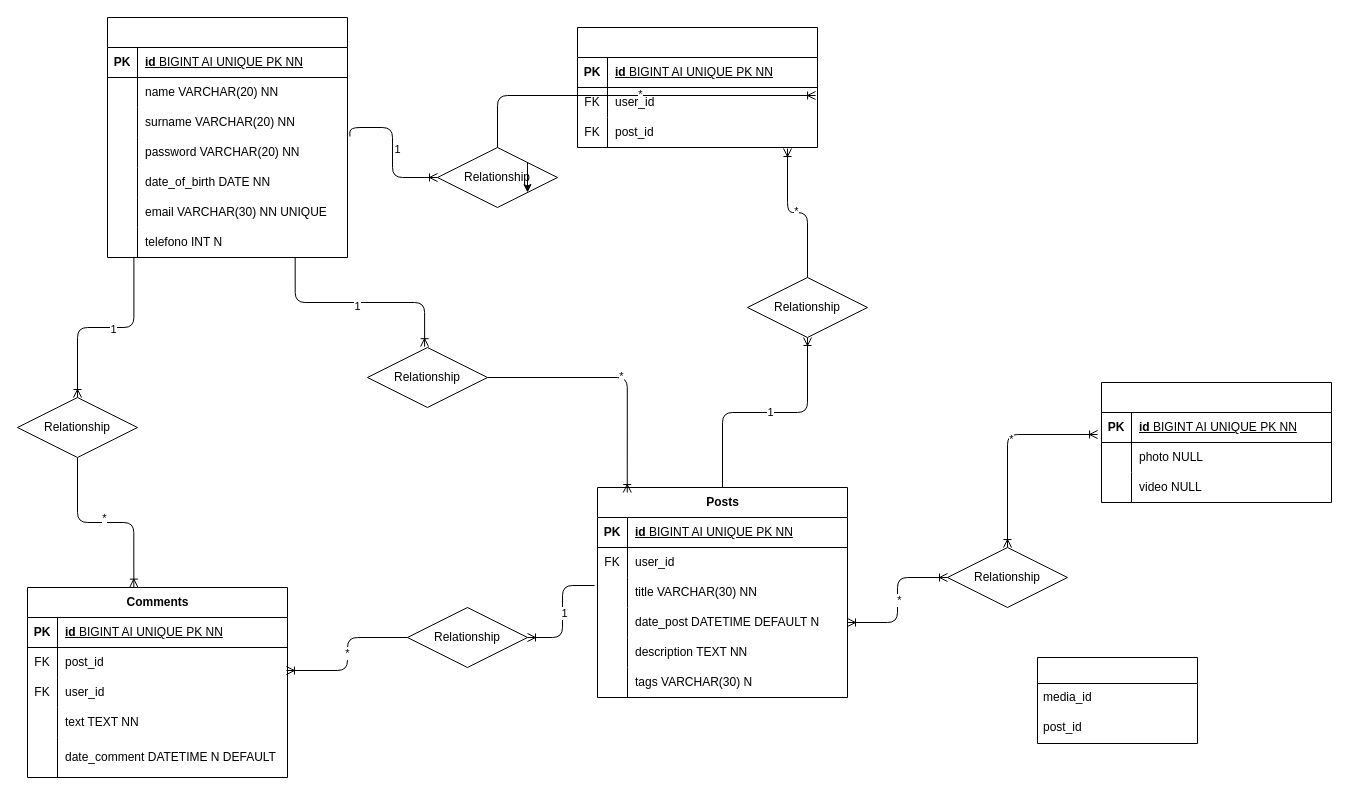
Image size: 1349x795. Some labels were removed from this diagram. The shapes that lost their labels are listed below. From the top down, each one's box as (x1, y1, x2, y2) in pixels, then its label:
(576, 26, 818, 148): Likes
(106, 16, 348, 258): Users
(1100, 382, 1332, 502): Medias
(1036, 656, 1198, 744): media_post
